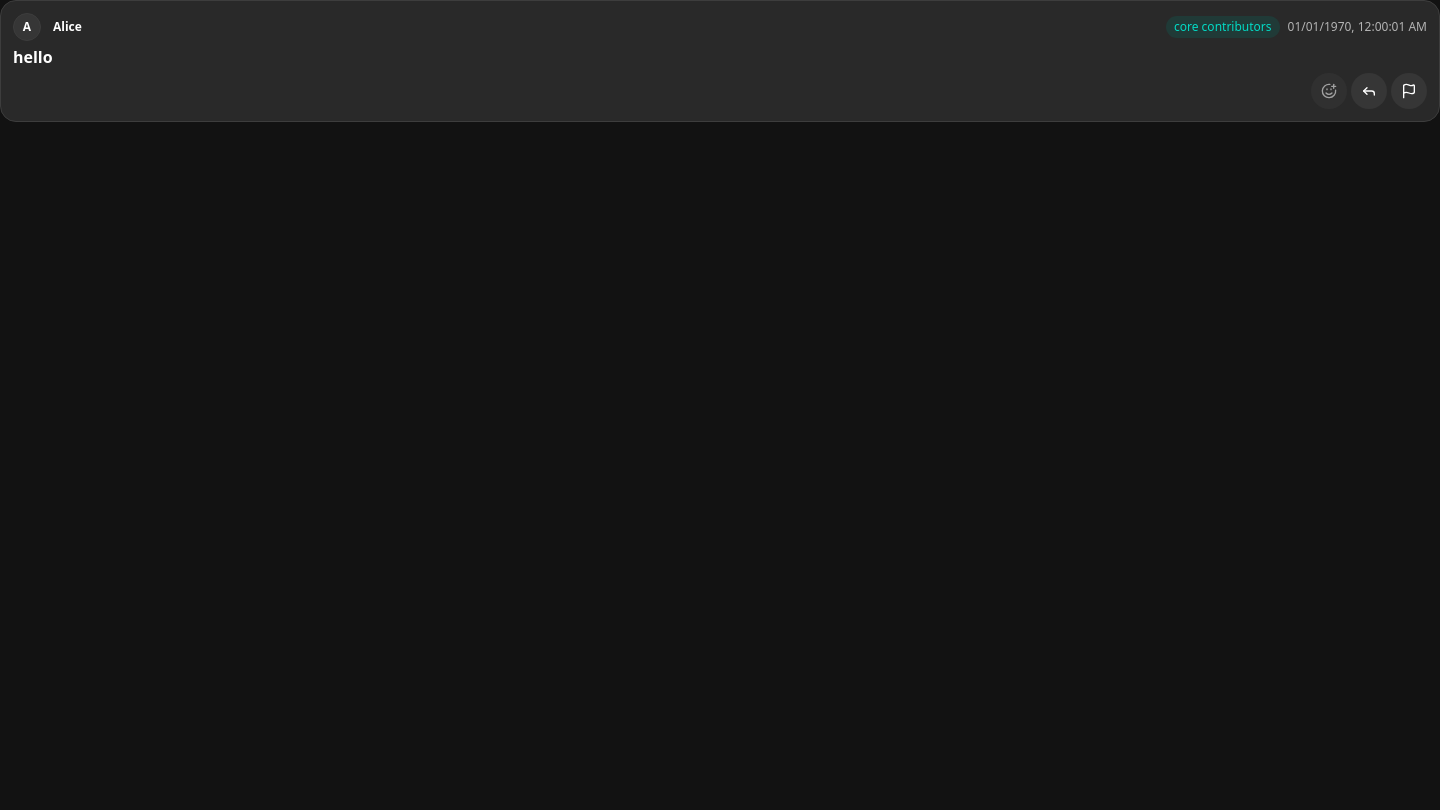
Test: report action refreshes the observed node manifest when the dialog opens
Click the button named "Report". click: (1409, 91)
box: [1391,73,1427,109]
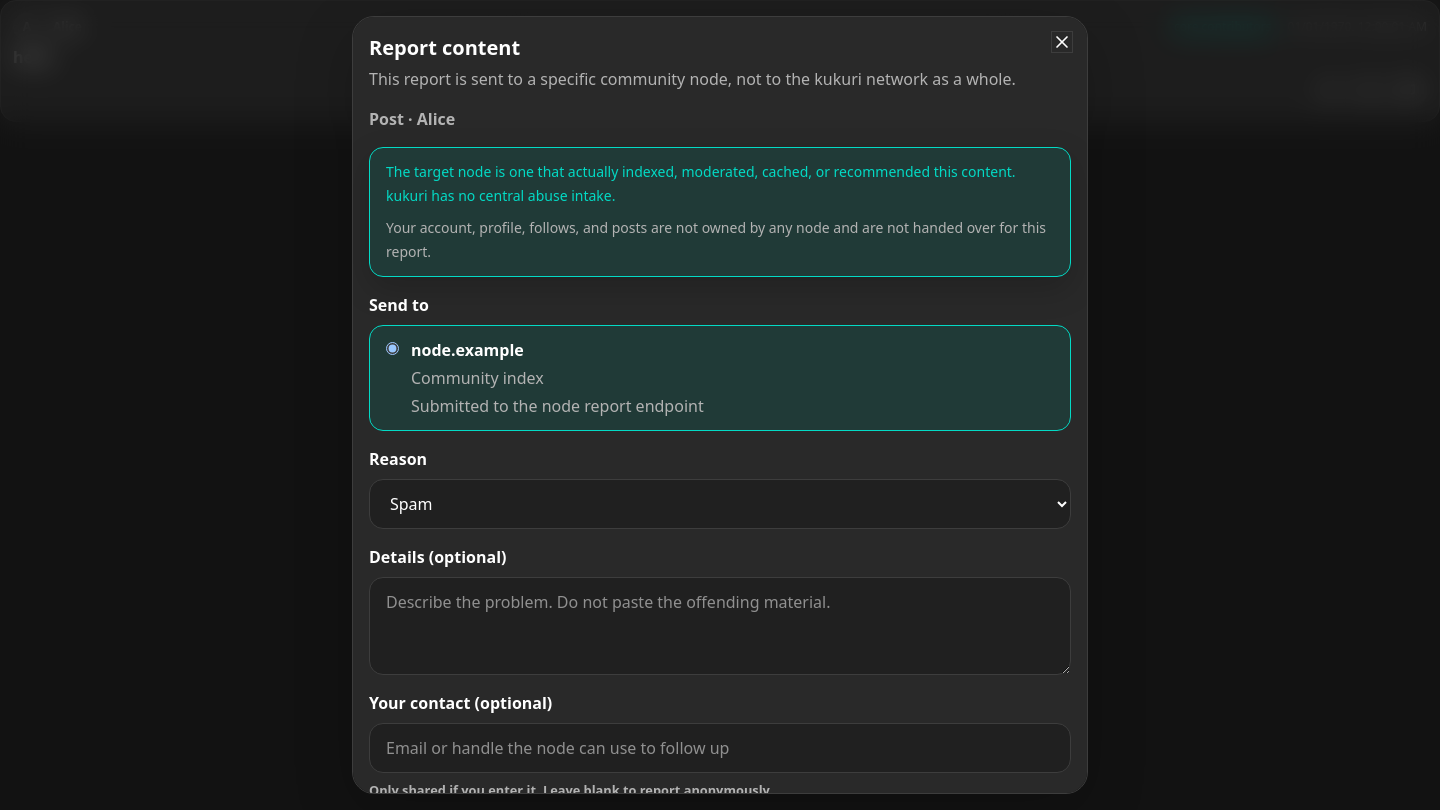
Now the text "node.example" is shown, box [411,339,524,361]
